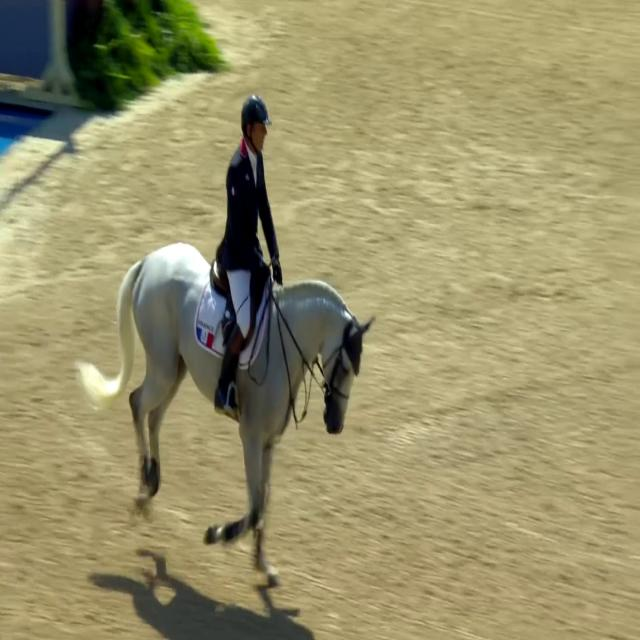Horse Rider: (210, 56, 284, 425)
Horse Running: (62, 212, 388, 603)
